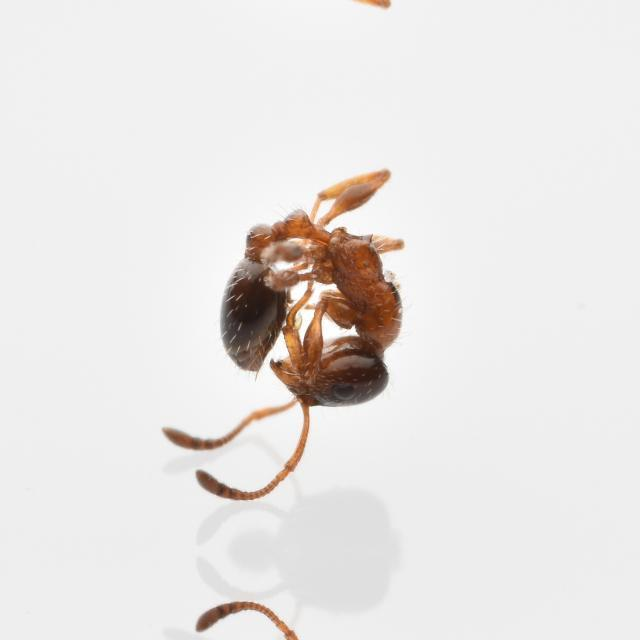Temnothorax: (186, 152, 444, 456)
